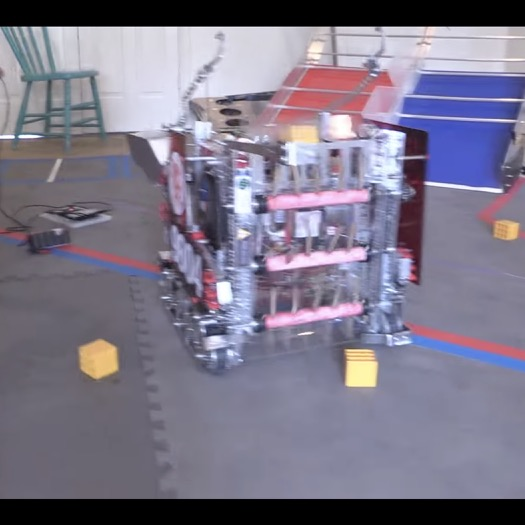robot: (153, 106, 430, 376)
